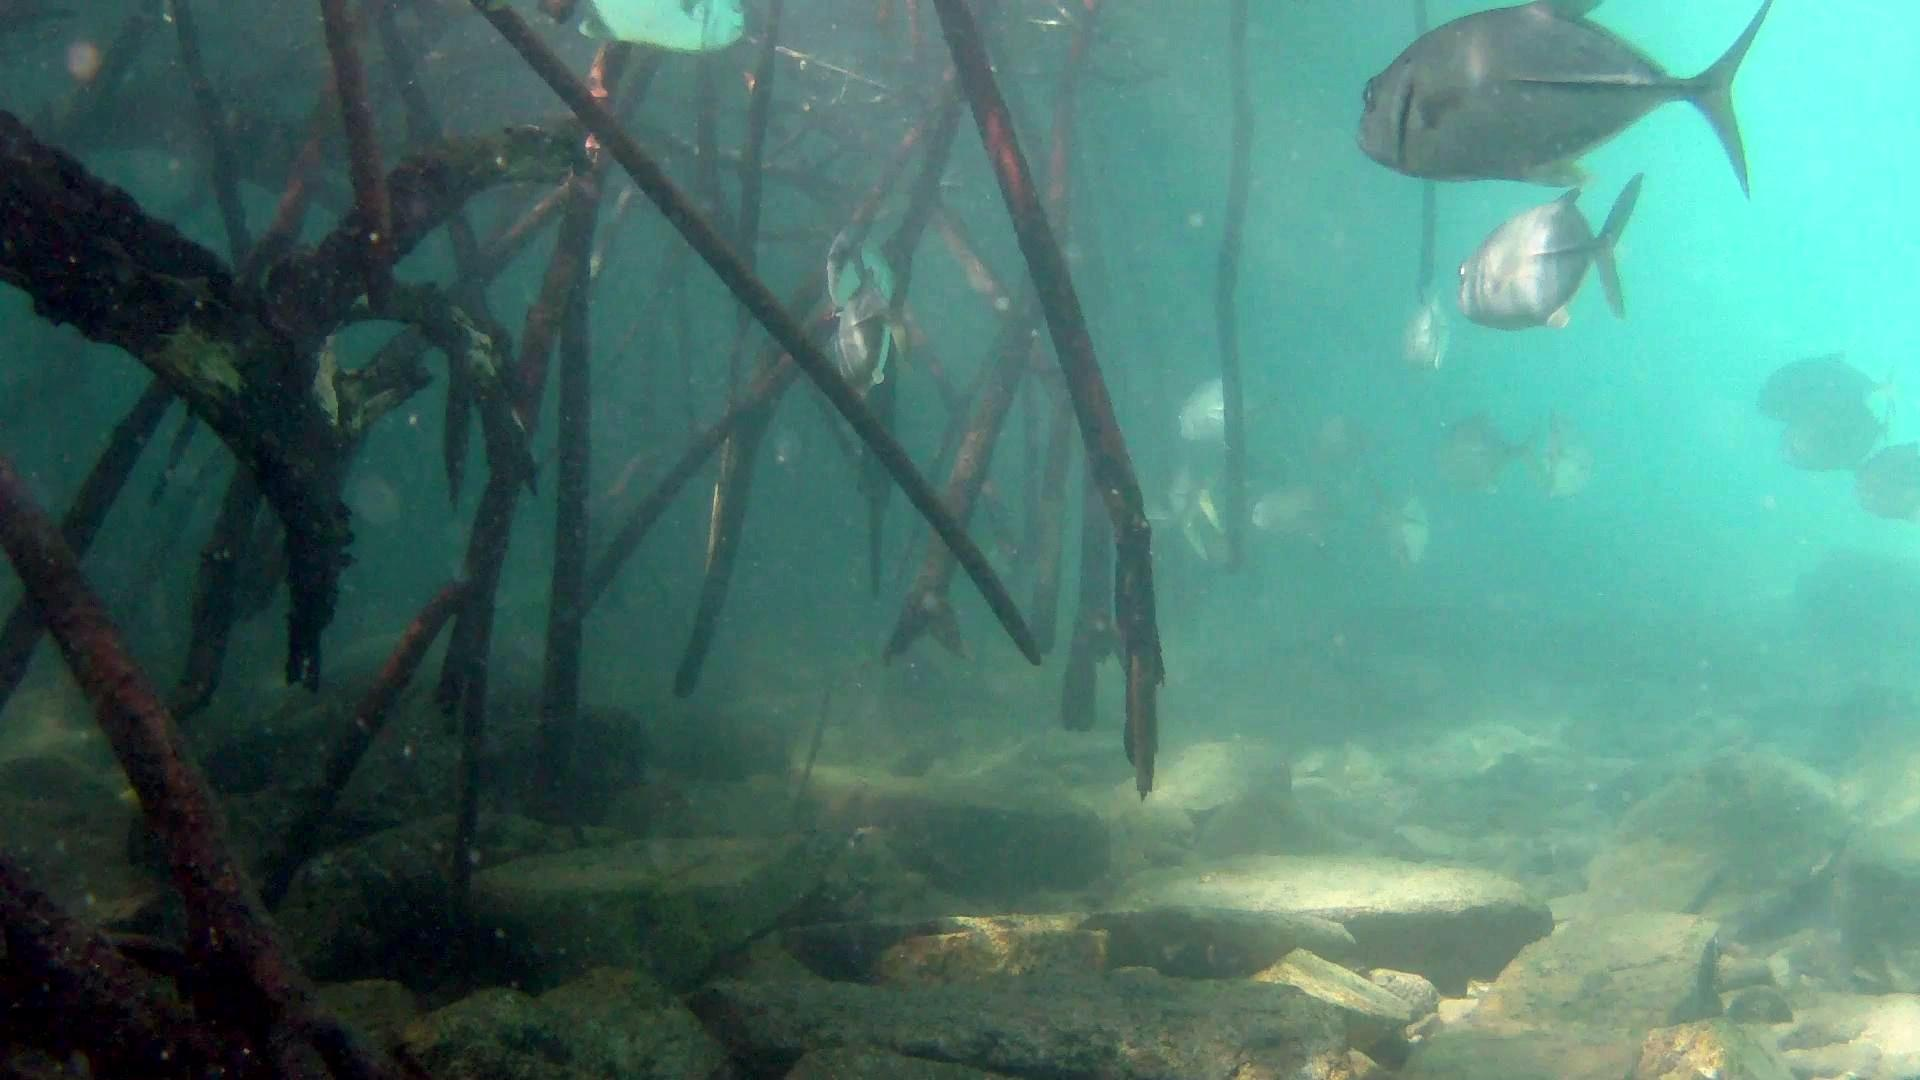caranx: (1350, 0, 1797, 200), (1445, 170, 1668, 336), (543, 0, 752, 63)
